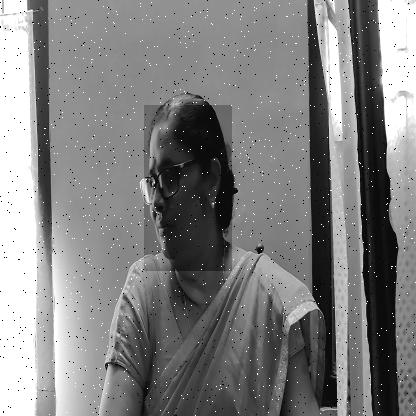Distracted: (144, 106, 232, 272)
